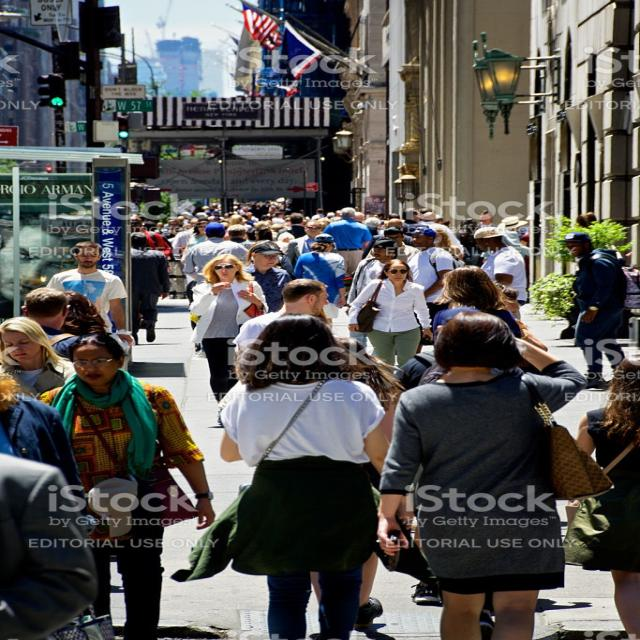body: (375, 308, 614, 640), (211, 312, 397, 639), (35, 330, 218, 640), (0, 371, 117, 638), (309, 335, 408, 631), (559, 348, 639, 640), (186, 252, 274, 430), (140, 197, 464, 244), (383, 508, 498, 638), (555, 226, 638, 394), (232, 276, 333, 382), (348, 258, 434, 376), (43, 240, 135, 348), (401, 225, 467, 354), (406, 226, 466, 354), (429, 265, 527, 342), (345, 238, 401, 360), (0, 316, 78, 395), (524, 587, 640, 640), (292, 232, 348, 332), (128, 231, 172, 346), (19, 286, 83, 360), (472, 226, 530, 306), (181, 220, 251, 286), (237, 242, 295, 314), (323, 206, 374, 278), (593, 242, 639, 312), (397, 342, 450, 391), (283, 219, 338, 265), (58, 290, 113, 336), (110, 619, 230, 640), (416, 211, 467, 259), (491, 269, 526, 321), (378, 227, 424, 264), (455, 219, 488, 270), (495, 215, 531, 258), (179, 220, 210, 266), (180, 220, 211, 265), (140, 220, 173, 258), (371, 218, 414, 246), (276, 212, 308, 240), (226, 223, 258, 251), (401, 207, 431, 232), (474, 210, 498, 228), (241, 243, 259, 267), (276, 245, 292, 267)
